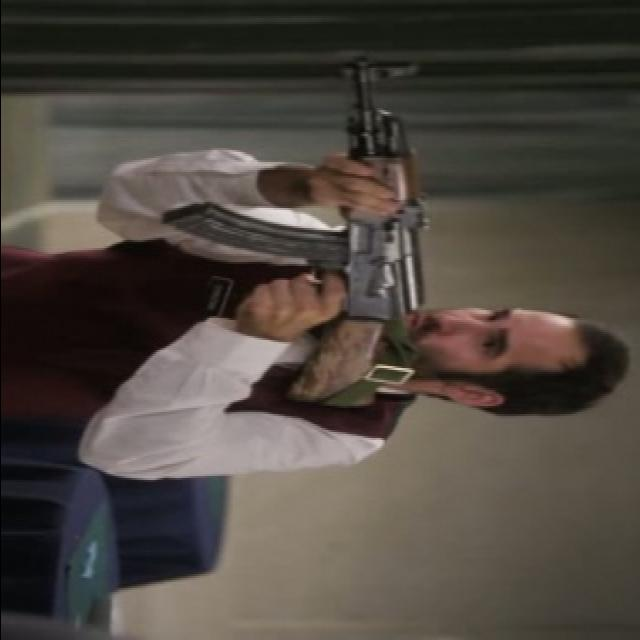rifle: (166, 33, 429, 401)
